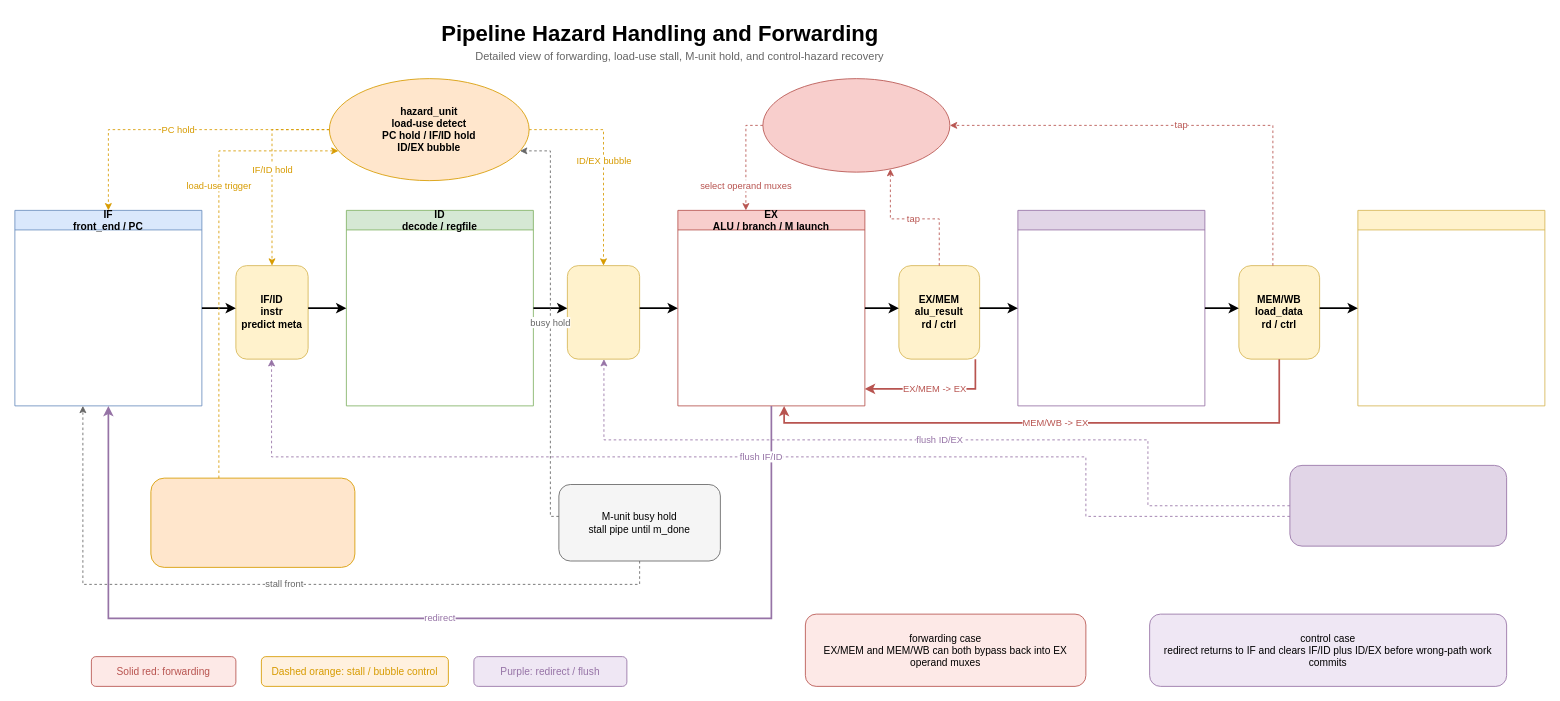
The diagram is 1560 pixels wide and 701 high, and some of its shapes have lost their labels. Here are the shapes that lost their labels. From the top down, the centre of each, then its label:
At [856,125]: "forward_unit rs1 / rs2 bypass select".
At [603,312]: "ID/EX rs1 / rs2 ctrl bundle".
At [1111,308]: "MEM load / store".
At [1451,308]: "WB writeback".
At [252,522]: "load-use case IF stage freezes PC IF/ID keeps current instr ID/EX injects bubble".
At [1398,505]: "control hazard EX resolve decides redirect flush younger instructions".
